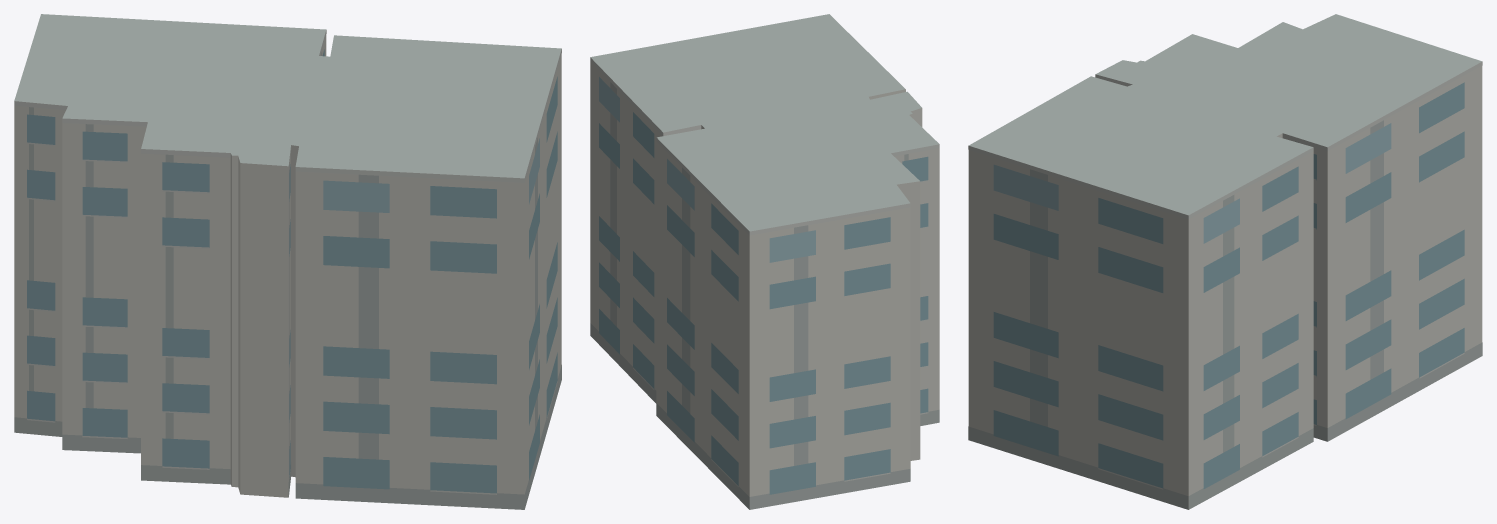
The model's file is survey-upis-32635530.glb.
3 renders of one model, left to right at view 1: azimuth 30°, elevation 25°; view 2: azimuth 150°, elevation 25°; view 3: azimuth 270°, elevation 25°, orthographic. The views are drawn at different scales.
Visible parts, largest first — view 1: survey-upis-32635530.tmp; view 2: survey-upis-32635530.tmp; view 3: survey-upis-32635530.tmp.
Boxes of the visible parts, <box> form: survey-upis-32635530.tmp: <box>14,14,561,509</box>; survey-upis-32635530.tmp: <box>590,14,939,509</box>; survey-upis-32635530.tmp: <box>968,14,1482,509</box>.
Bounding box in the file's own units: 25.52 × 17.4 × 27.53.
